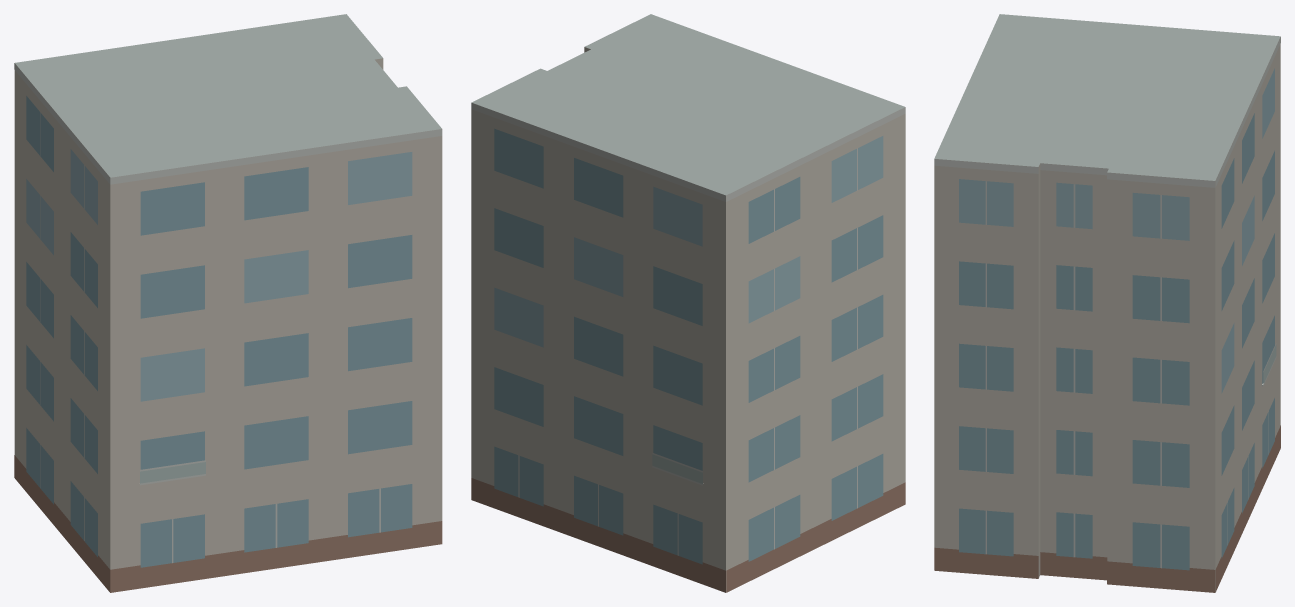
File: survey-upis-33020088.glb
The picture shows the model from 3 angles, left to right: view 1: azimuth 30°, elevation 25°; view 2: azimuth 150°, elevation 25°; view 3: azimuth 270°, elevation 25°; orthographic projection. The views are drawn at different scales.
Parts seen in each view (by area): view 1: survey-upis-33020088.tmp; view 2: survey-upis-33020088.tmp; view 3: survey-upis-33020088.tmp.
Part boxes in pixels (x1,y1,x2,y2): survey-upis-33020088.tmp: (14,14,442,592); survey-upis-33020088.tmp: (471,14,905,592); survey-upis-33020088.tmp: (934,14,1280,592).
Bounding box in the file's own units: 12.72 × 14.62 × 11.16.
